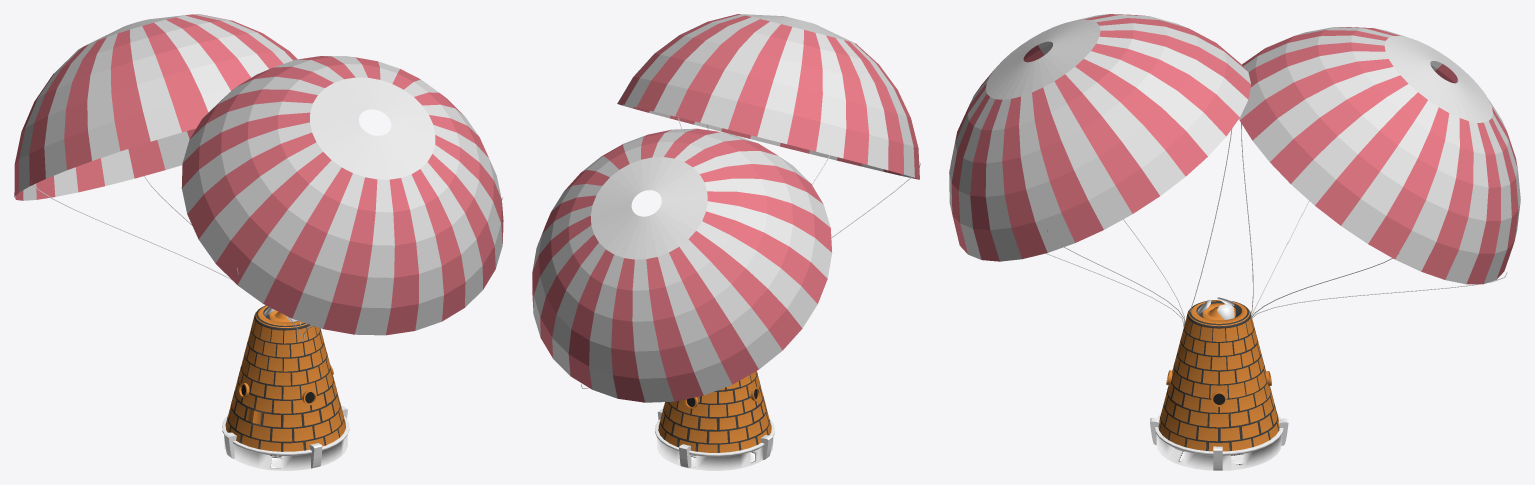
File: paraVehicle.2f90b85d.glb
3 views of the same model, side by side, from view 1: azimuth 30°, elevation 25°; view 2: azimuth 150°, elevation 25°; view 3: azimuth 270°, elevation 25° (orthographic). The views are drawn at different scales.
Visible parts, largest first — view 1: Sphere, Sphere.001, Cylinder, Cylinder.001; view 2: Sphere.001, Sphere, Cylinder, Cylinder.001; view 3: Sphere, Sphere.001, Cylinder, Cylinder.001.
Part boxes in pixels (x1,y1,x2,y2): Sphere: [181, 56, 503, 335]; Sphere.001: [14, 14, 297, 200]; Cylinder: [225, 305, 345, 456]; Cylinder.001: [222, 415, 349, 470]; Sphere.001: [532, 128, 832, 402]; Sphere: [617, 14, 919, 179]; Cylinder: [658, 371, 771, 455]; Cylinder.001: [655, 419, 774, 470]; Sphere: [949, 14, 1251, 261]; Sphere.001: [1239, 27, 1520, 284]; Cylinder: [1158, 300, 1279, 455]; Cylinder.001: [1154, 414, 1283, 470].
Size of the model in its own units: 9.88 by 11.83 by 14.79.
